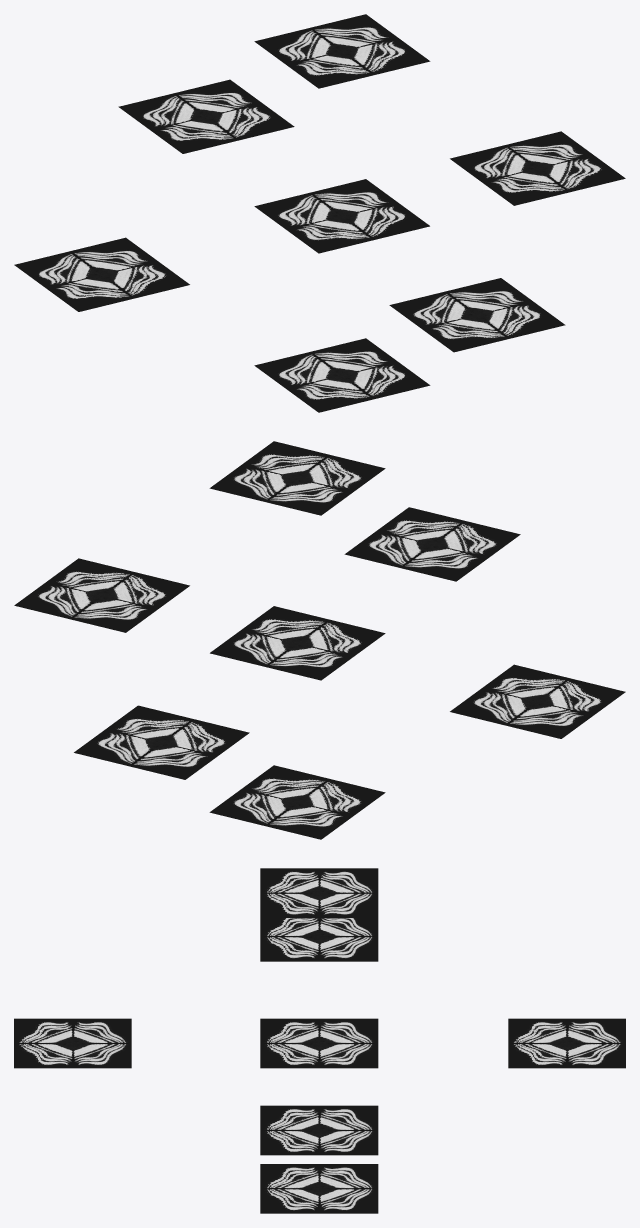
The picture shows the model from 3 angles, top to bottom: view 1: azimuth 30°, elevation 25°; view 2: azimuth 150°, elevation 25°; view 3: azimuth 270°, elevation 25°; orthographic projection. The views are drawn at different scales.
Visible parts, largest first — view 1: spirale (×7); view 2: spirale (×7); view 3: spirale (×7).
Boxes of the visible parts, box(x1,y1,x2,y2) form: spirale (×7): box(14, 14, 625, 412); spirale (×7): box(14, 441, 625, 839); spirale (×7): box(14, 868, 625, 1213).
Bounding box in the file's own units: 1957 × 1107 × 2078.
Materials: 1 (1 with a texture image).
